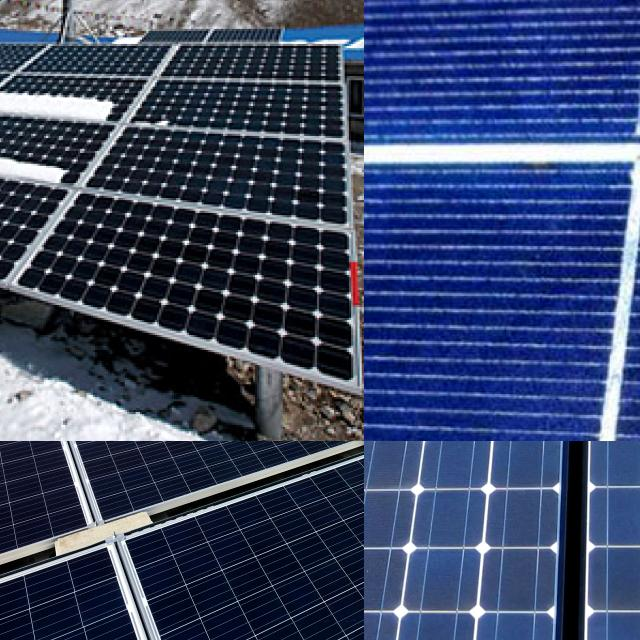crack: (86, 441, 364, 640), (364, 441, 600, 640), (47, 441, 364, 529), (577, 441, 640, 640), (7, 441, 230, 467), (253, 441, 364, 474), (192, 441, 356, 463)
panel: (0, 73, 119, 149), (0, 196, 86, 295), (0, 129, 76, 190), (0, 90, 51, 166), (0, 62, 52, 114), (0, 45, 28, 136), (120, 104, 182, 140), (0, 189, 35, 219)
